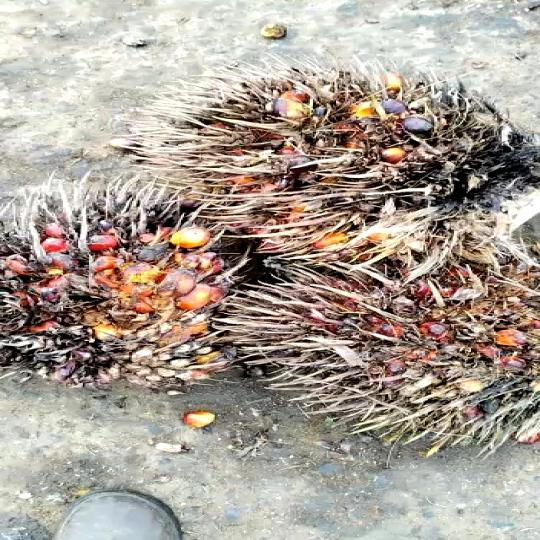terlalu masak: (184, 236, 540, 445), (139, 71, 540, 248), (0, 195, 251, 373)
